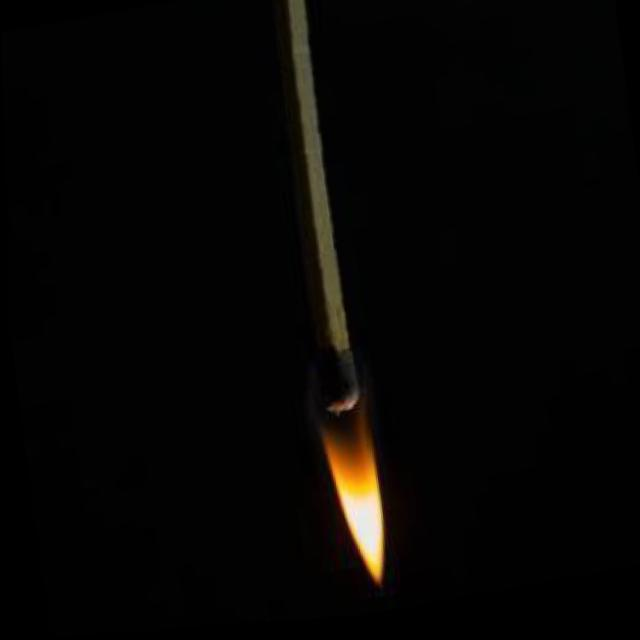Fire: (307, 381, 407, 622)
